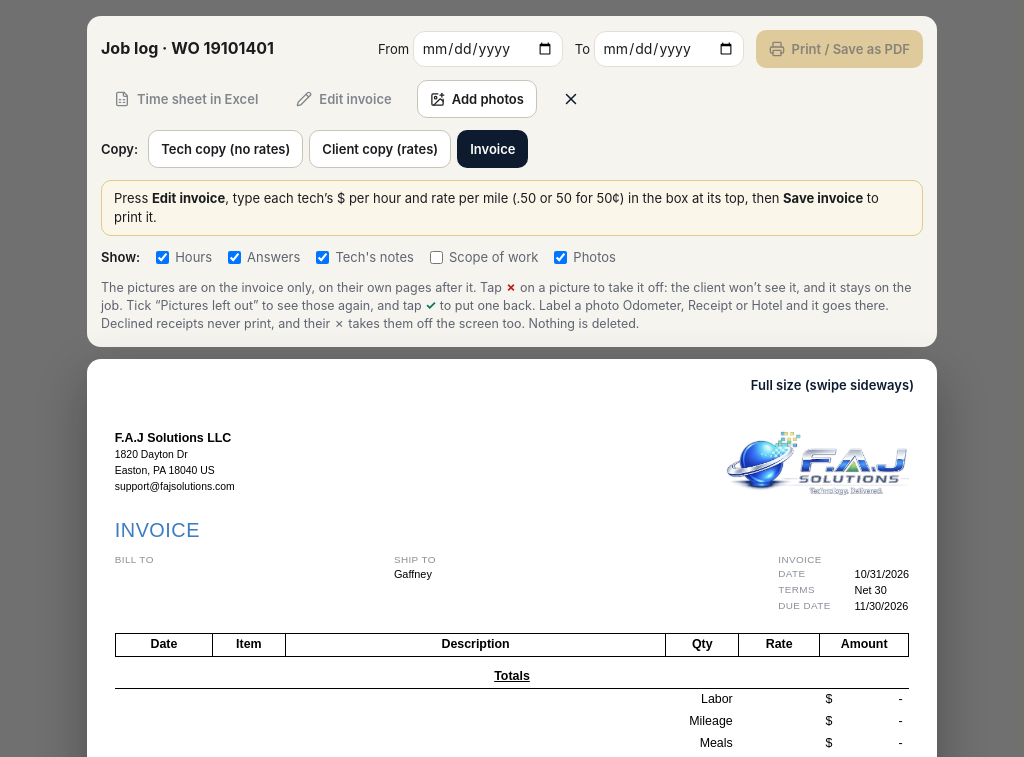
it: Job log meals, materials and other receipts › lists each tech's receipts and total, the lead tech first, then the overall total
Click the button "Tech copy (no rates)" at (226, 149), box [148,130,303,168]
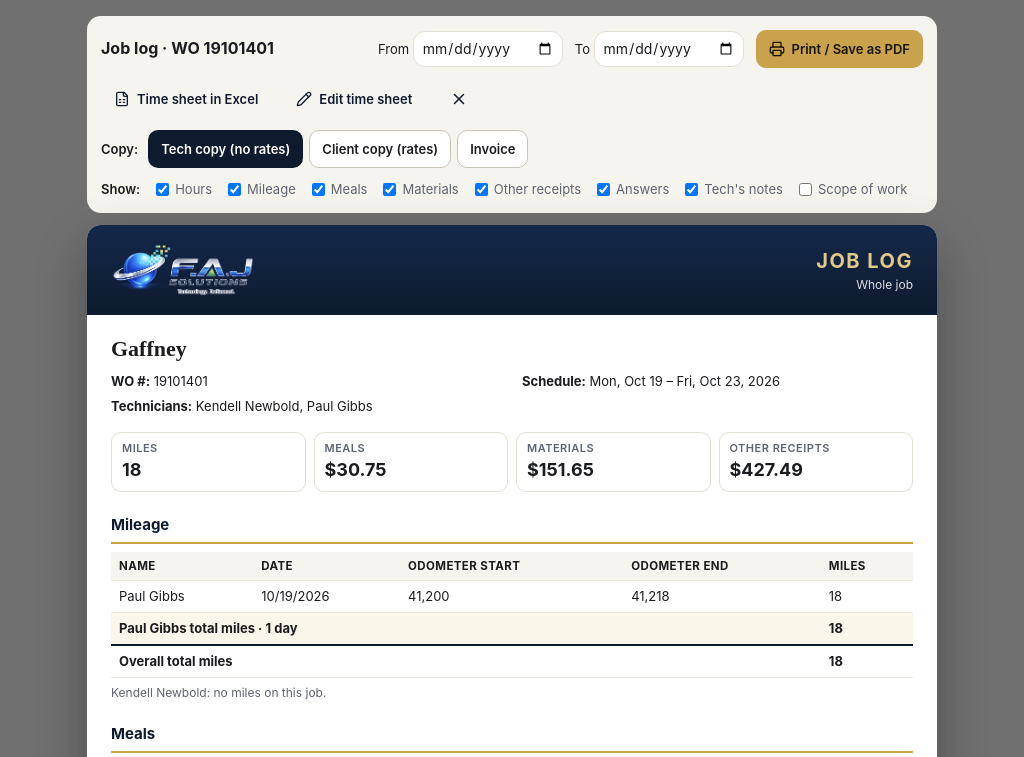
expect the text "$30.75" is shown: met, box [324,459,387,480]
expect the text "$151.65" is shown: met, box [527,459,594,480]
expect the text "$427.49" is shown: met, box [730,459,803,480]
Type "2026-10-20" into the date field labelled "From" at (488, 49), box [413,31,563,67]
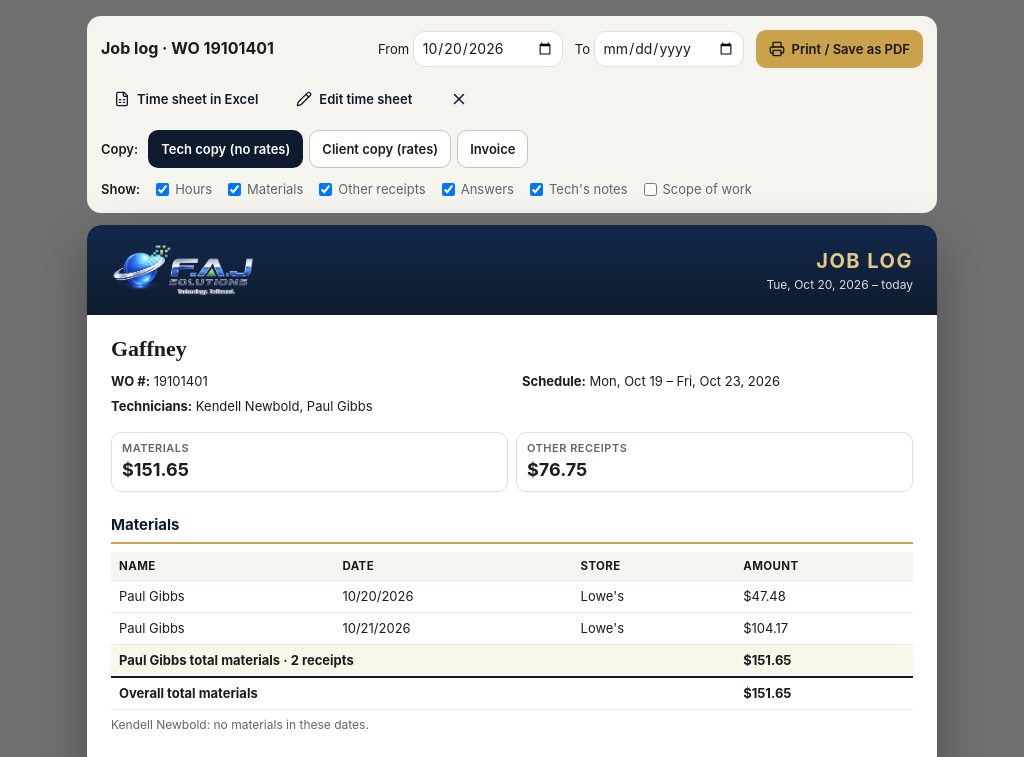
expect the text "Kendell Newbold: no materials in these dates." is shown: met, box [111,717,369,732]
